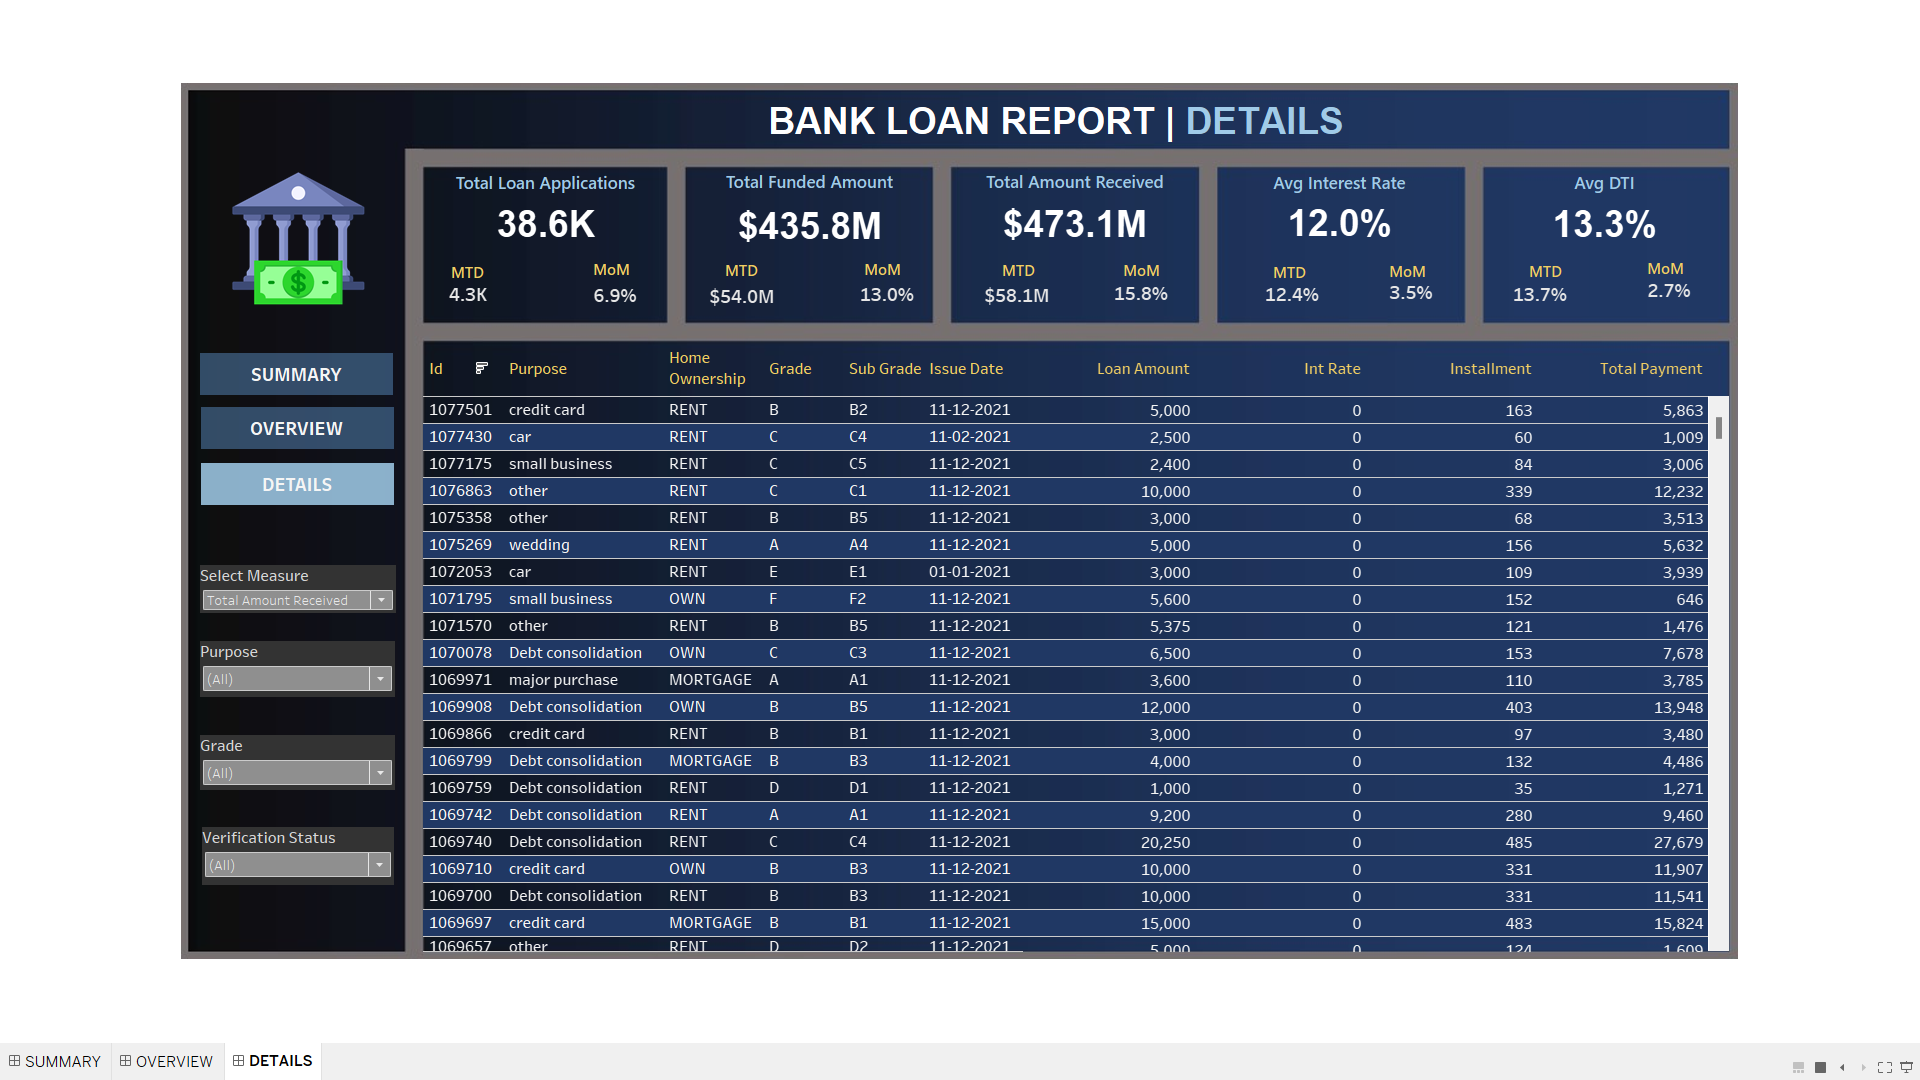

The dashboard page shown, as its layout file describes it:
{"tool":"tableau","page":{"name":"DETAILS","canvas":[1600,900],"ordinal":0},"visuals":[{"type":"image","param":"Image/Tableau Background 3.jpg","box":[8,8,1584,884]},{"type":"text","box":[605,23,679,55]},{"type":"image","param":"Image/banking.png","box":[69,87,138,160]},{"type":"worksheet","title":"Total Funded Amount","mark":"Automatic","box":[526,95,247,84]},{"type":"worksheet","title":"Total Amount Received","mark":"Automatic","box":[791,95,248,79]},{"type":"worksheet","title":"Total Loan Applications","mark":"Automatic","box":[264,96,243,78]},{"type":"worksheet","title":"Avg Interest Rate","mark":"Automatic","box":[1056,96,247,76]},{"type":"worksheet","title":"Avg DTI","mark":"Automatic","box":[1322,96,245,78]},{"type":"text","box":[1468,185,75,24]},{"type":"text","box":[414,186,75,24]},{"type":"text","box":[685,186,75,24]},{"type":"text","box":[544,187,75,24]},{"type":"text","box":[821,187,75,24]},{"type":"text","box":[944,187,75,24]},{"type":"text","box":[1210,188,75,24]},{"type":"text","box":[1348,188,75,24]},{"type":"text","box":[270,189,75,24]},{"type":"text","box":[1092,189,75,24]},{"type":"worksheet","title":"MoM Avg DTI","mark":"Automatic","box":[1460,199,98,40]},{"type":"worksheet","title":"MoM Avg Interest Rate","mark":"Automatic","box":[1213,200,75,42]},{"type":"worksheet","title":"MoM Total Funded Amount","mark":"Automatic","box":[682,202,89,42]},{"type":"worksheet","title":"MTD Total Amount Received","mark":"Automatic","box":[816,202,82,44]},{"type":"worksheet","title":"MTD DTI","mark":"Automatic","box":[1332,202,96,41]},{"type":"worksheet","title":"MTD Avg Interest Rate","mark":"Automatic","box":[1089,203,85,39]},{"type":"worksheet","title":"MoM Total Amount Received","mark":"Automatic","box":[943,205,76,33]},{"type":"worksheet","title":"MTD Total Loan Applications","mark":"Automatic","box":[276,207,64,31]},{"type":"worksheet","title":"MTD Total Funded Amount","mark":"Automatic","box":[544,207,75,35]},{"type":"worksheet","title":"MoM Loan Applications","mark":"Automatic","box":[421,209,68,29]},{"type":"worksheet","title":"Details Tab","mark":"Automatic","rows":["id","purpose","home_ownership","grade","sub_grade","issue_date"],"box":[263,269,1306,612]},{"type":"dashboard-object","box":[40,282,193,42]},{"type":"dashboard-object","box":[41,336,193,42]},{"type":"dashboard-object","box":[41,392,193,42]},{"type":"parameter","param":"[Parameters].[Parameter 1]","box":[40,494,196,48]},{"type":"filter","title":"Avg DTI","param":"[federated.1yo319s07czi5s1dtju3v0njmv9x].[none:purpose:nk]","box":[40,570,195,56]},{"type":"filter","title":"Avg DTI","param":"[federated.1yo319s07czi5s1dtju3v0njmv9x].[none:grade:nk]","box":[40,664,195,55]},{"type":"filter","title":"Avg DTI","param":"[federated.1yo319s07czi5s1dtju3v0njmv9x].[none:verification_status:nk]","box":[42,756,192,58]}]}

Visuals, with their boxes on the page's 1600x900 design canvas (x1, y1, x2, y2). These are canvas units, not pixel positions in the 1920x1080 screenshot, which may show the page scaled, cropped or inside an application window:
image: box(8, 8, 1592, 892)
text: box(605, 23, 1284, 78)
image: box(69, 87, 207, 247)
"Total Funded Amount" worksheet: box(526, 95, 773, 179)
"Total Amount Received" worksheet: box(791, 95, 1039, 174)
"Total Loan Applications" worksheet: box(264, 96, 507, 174)
"Avg Interest Rate" worksheet: box(1056, 96, 1303, 172)
"Avg DTI" worksheet: box(1322, 96, 1567, 174)
text: box(1468, 185, 1543, 209)
text: box(414, 186, 489, 210)
text: box(685, 186, 760, 210)
text: box(544, 187, 619, 211)
text: box(821, 187, 896, 211)
text: box(944, 187, 1019, 211)
text: box(1210, 188, 1285, 212)
text: box(1348, 188, 1423, 212)
text: box(270, 189, 345, 213)
text: box(1092, 189, 1167, 213)
"MoM Avg DTI" worksheet: box(1460, 199, 1558, 239)
"MoM Avg Interest Rate" worksheet: box(1213, 200, 1288, 242)
"MoM Total Funded Amount" worksheet: box(682, 202, 771, 244)
"MTD Total Amount Received" worksheet: box(816, 202, 898, 246)
"MTD DTI" worksheet: box(1332, 202, 1428, 243)
"MTD Avg Interest Rate" worksheet: box(1089, 203, 1174, 242)
"MoM Total Amount Received" worksheet: box(943, 205, 1019, 238)
"MTD Total Loan Applications" worksheet: box(276, 207, 340, 238)
"MTD Total Funded Amount" worksheet: box(544, 207, 619, 242)
"MoM Loan Applications" worksheet: box(421, 209, 489, 238)
"Details Tab" worksheet: box(263, 269, 1569, 881)
dashboard-object: box(40, 282, 233, 324)
dashboard-object: box(41, 336, 234, 378)
dashboard-object: box(41, 392, 234, 434)
parameter: box(40, 494, 236, 542)
"Avg DTI" filter: box(40, 570, 235, 626)
"Avg DTI" filter: box(40, 664, 235, 719)
"Avg DTI" filter: box(42, 756, 234, 814)
